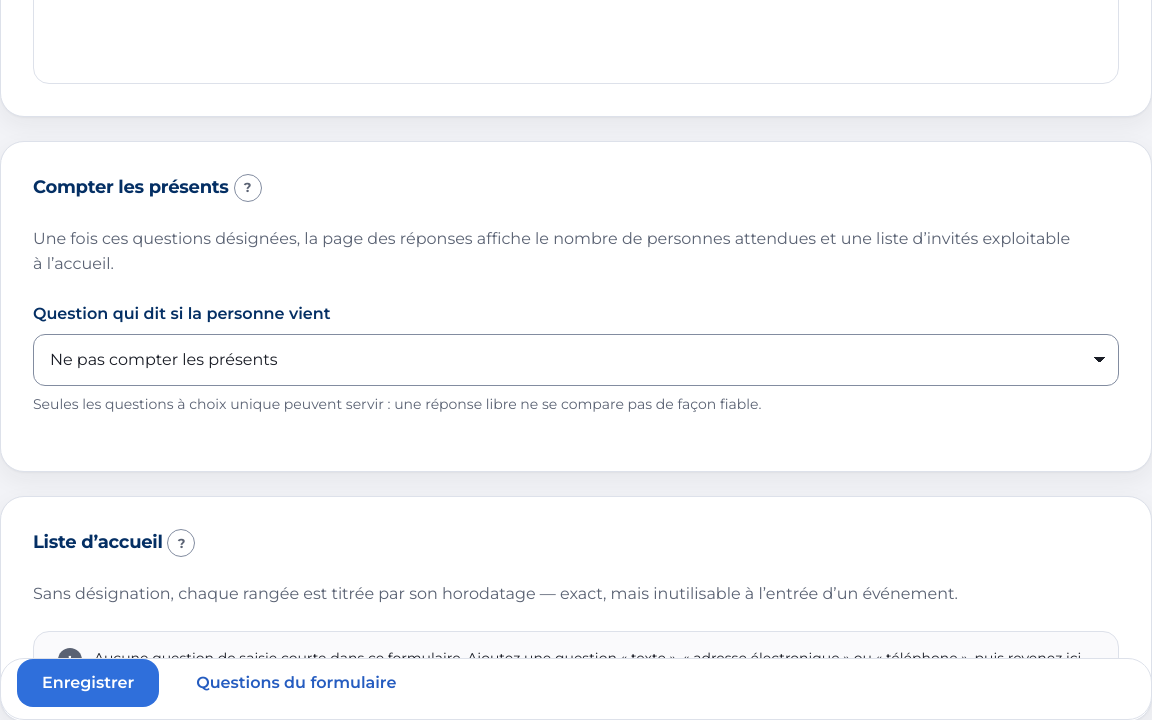
Test case: comptage des présents › ne propose le comptage qu’à partir des questions du formulaire
(page scrolled)
Select "Serez-vous présent ?" in the dropdown labelled "Question qui dit si la personne vient". click: (576, 360)
box: [33,334,1119,386]
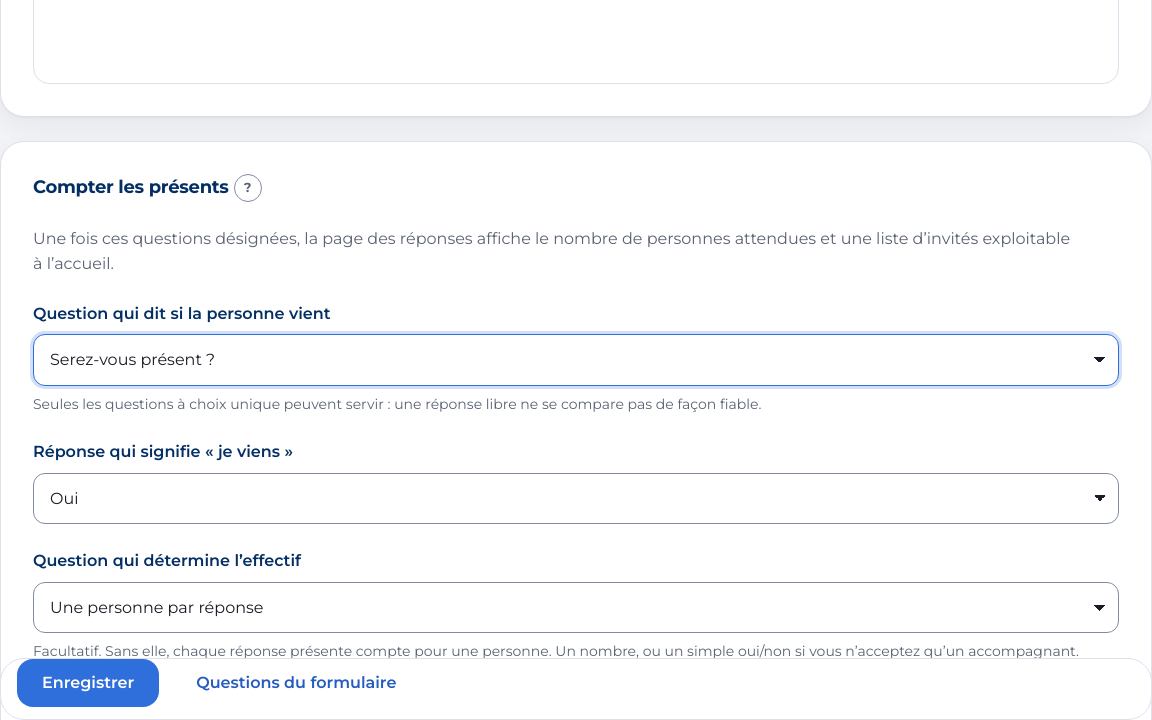
expect the dropdown labelled "Réponse qui signifie « je viens »" shows "Oui": met, box [33,473,1119,524]
